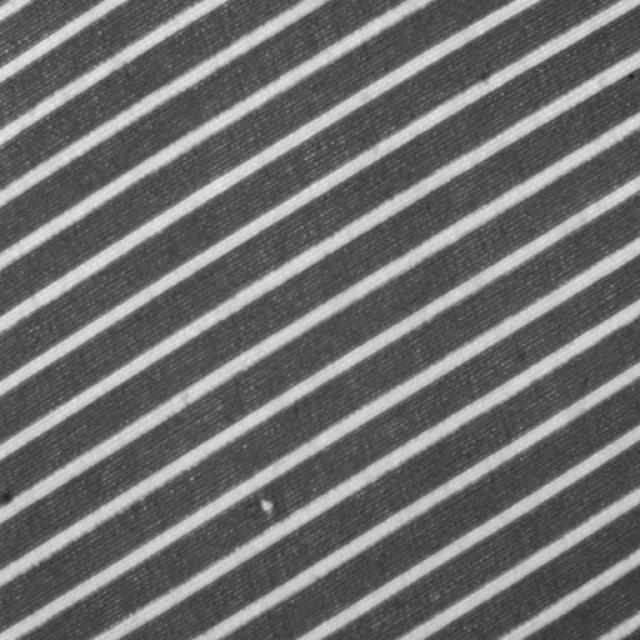Thread-Defect: (249, 492, 275, 520)
